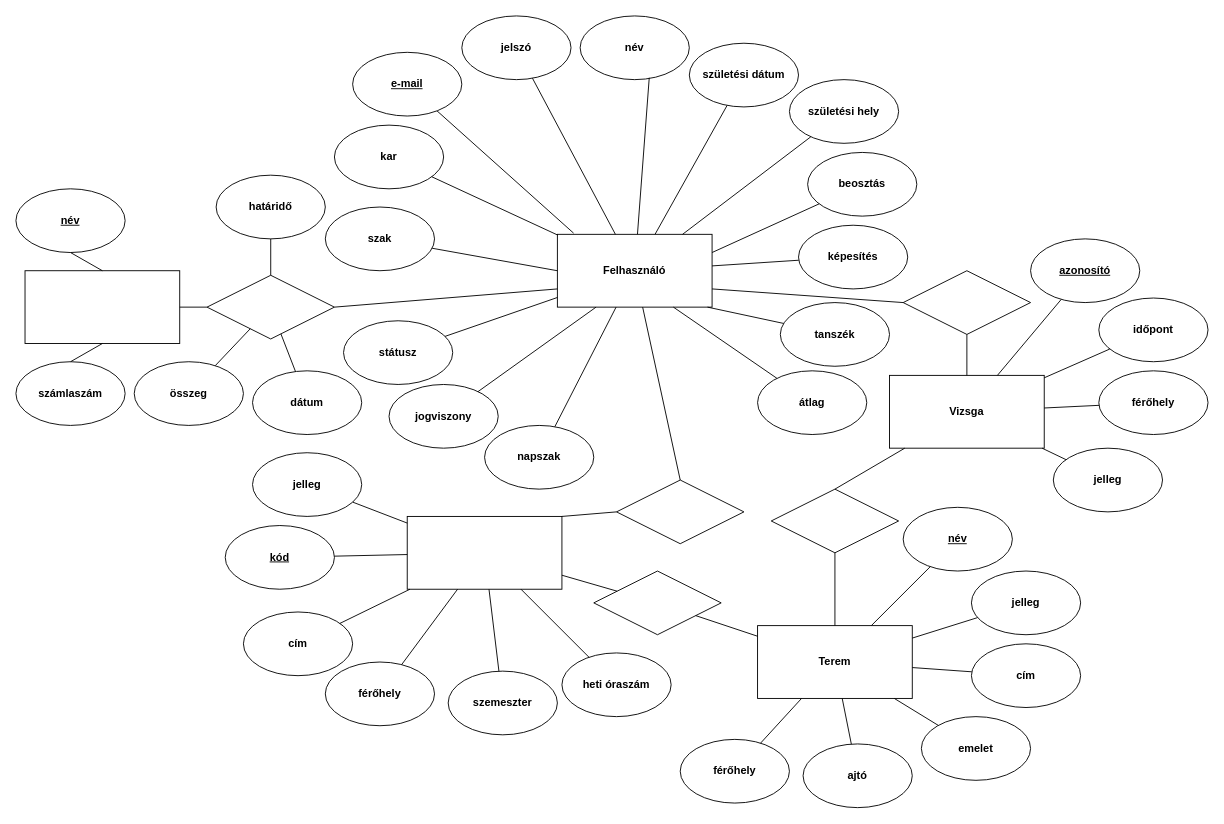
Some shapes in this 1224 by 824 pixel diagram are drawn without their labels. The shapes that lost their labels are listed below. From the top down, each one's centre as x and y in pixels, then its label:
At (102,307): "Állam".
At (270,306): "befizet".
At (966,302): "számonkérés".
At (680,511): "oktatas".
At (834,520): "vizsgaterem".
At (484,552): "Kurzus".
At (657,602): "tanterem".
